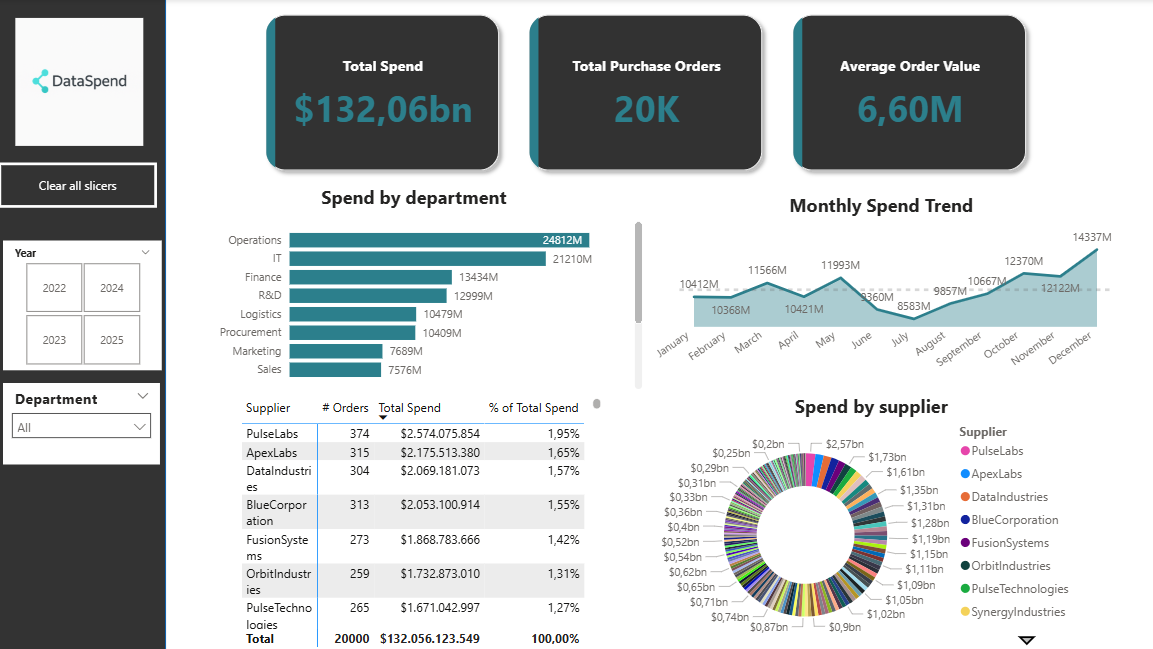

The dashboard page shown, as its layout file describes it:
{"tool":"powerbi","page":{"name":"Executive Overview","canvas":[1280,720],"ordinal":0},"visuals":[{"type":"cardVisual","fields":{"Data":["Measure.Total Spend","Measure.Total Purchase Orders","Measure.Average Order Value"]},"box":[466.7,25,813.3,163.3],"z":0},{"type":"clusteredBarChart","title":"Spend by department","fields":{"Category":["departments.name"],"Y":["Sum(purchase_orders.total_amount)"]},"box":[0,204,576,230],"z":1000},{"type":"donutChart","title":"Spend by supplier","fields":{"Y":["Measure.Total Spend"],"Category":["suppliers.supplier_id"]},"box":[466.7,433.3,746.7,286.7],"z":2000},{"type":"slicer","fields":{"Values":["purchase_orders.order_date.Variation.Date Hierarchy.Year"]},"box":[11.7,51.7,188.3,151.7],"z":3000},{"type":"slicer","fields":{"Values":["departments.name"]},"box":[200,51.7,188.3,151.7],"z":4000},{"type":"lineChart","title":"Monthly Spend Trend","fields":{"Category":["purchase_orders.order_date.Variation.Date Hierarchy.Month"],"Y":["Sum(purchase_orders.total_amount)"]},"box":[576.7,213.3,658.3,210],"z":5000},{"type":"actionButton","box":[0,0,200,50],"z":6000},{"type":"pivotTable","fields":{"Rows":["suppliers.name"],"Values":["Measure.Total Purchase Orders","Measure.Total Spend","Divide(Measure.Total Spend, ScopedEval(Measure.Total Spend, []))"]},"box":[61.7,435,388.3,285],"z":7000}]}

Visuals, with their boxes on the page's 1280x720 design canvas (x1, y1, x2, y2). These are canvas units, not pixel positions in the 1153x649 screenshot, which may show the page scaled, cropped or inside an application window:
cardVisual - Measure.Total Spend x Measure.Total Purchase Orders: 467, 25, 1280, 188
"Spend by department" clusteredBarChart: 0, 204, 576, 434
"Spend by supplier" donutChart: 467, 433, 1213, 720
slicer - purchase_orders.order_date.Variation.Date Hierarchy.Year: 12, 52, 200, 203
slicer - departments.name: 200, 52, 388, 203
"Monthly Spend Trend" lineChart: 577, 213, 1235, 423
actionButton: 0, 0, 200, 50
pivotTable - suppliers.name x Measure.Total Purchase Orders: 62, 435, 450, 720
